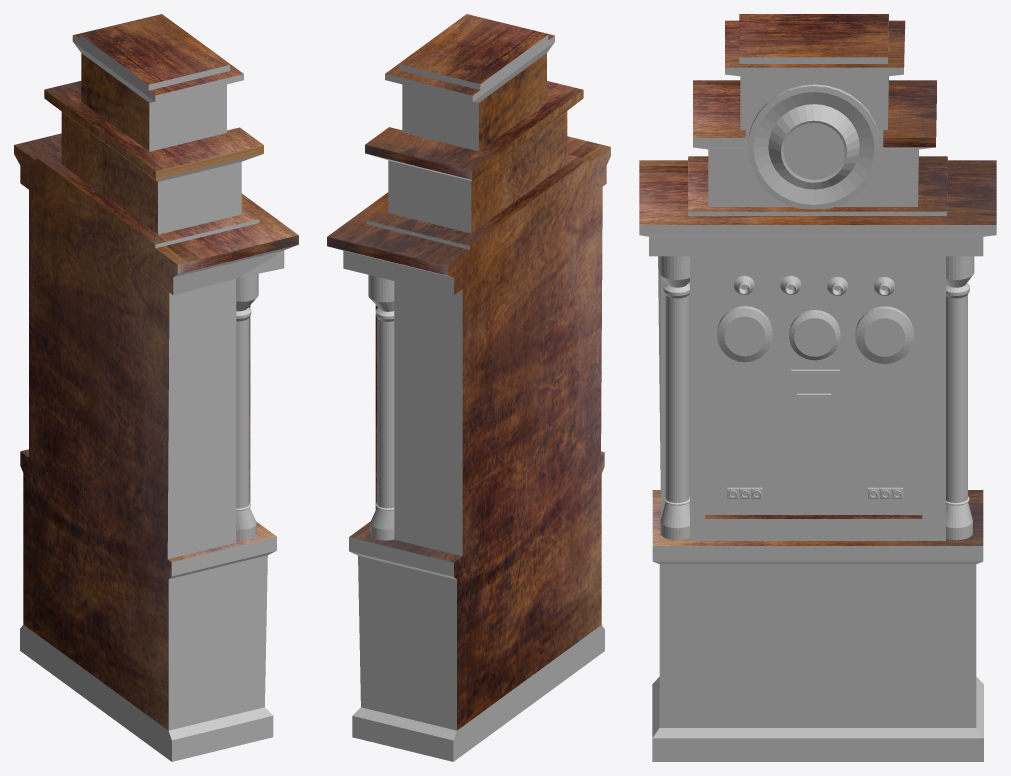
File: termoregulador.fbx
3 renders of one model, left to right at view 1: azimuth 30°, elevation 25°; view 2: azimuth 150°, elevation 25°; view 3: azimuth 270°, elevation 25°, orthographic. The views are drawn at different scales.
Visible parts, largest first — view 1: termoregulador; view 2: termoregulador; view 3: termoregulador.
Boxes of the visible parts, x1,y1,x2,y2 form: termoregulador: [14, 14, 298, 761]; termoregulador: [327, 14, 610, 761]; termoregulador: [639, 14, 996, 761].
Size of the model in its own units: 312 by 1582 by 729.
